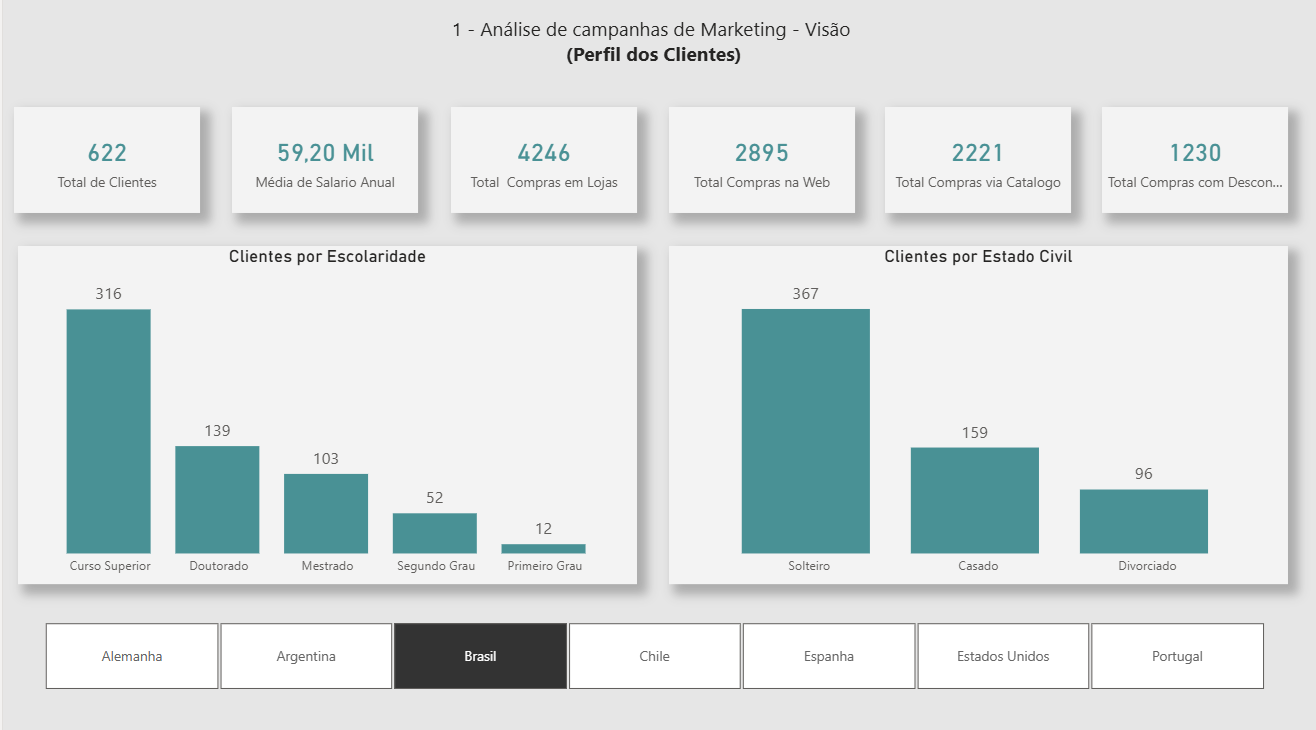

The page's visual inventory and layout, read from the dashboard file:
{"tool":"powerbi","page":{"name":"Visão do cliente","canvas":[1280,720],"ordinal":0},"visuals":[{"type":"card","fields":{"Values":["CountNonNull(Fmarketing.ID)"]},"box":[10.3,109.7,181.1,103.5],"z":0},{"type":"card","fields":{"Values":["Avg(Fmarketing.Salario Anual)"]},"box":[223,109.7,181,103],"z":1000},{"type":"card","fields":{"Values":["Sum(Fmarketing.Numero de Compras na Loja)"]},"box":[435.5,109.7,181,103],"z":2000},{"type":"card","fields":{"Values":["Sum(Fmarketing.Numero de Compras na Web)"]},"box":[648,109.7,181,103],"z":3000},{"type":"card","fields":{"Values":["Sum(Fmarketing.Numero de Compras com Desconto)"]},"box":[1068.9,109.7,181.1,103.5],"z":4000},{"type":"card","fields":{"Values":["Sum(Fmarketing.Numero de Compras via Catalogo)"]},"box":[857.8,109.7,181.1,103.5],"z":5000},{"type":"textbox","box":[312.5,15.5,641.6,60],"z":6000},{"type":"clusteredColumnChart","title":"Clientes por Escolaridade","fields":{"Y":["CountNonNull(Fmarketing.ID)"],"Category":["Fmarketing.Escolaridade"]},"box":[14.5,245.2,602.2,329.1],"z":7000},{"type":"clusteredColumnChart","title":"Clientes por Estado Civil","fields":{"Y":["CountNonNull(Fmarketing.ID)"],"Category":["Fmarketing.Estado Civil"]},"box":[647.8,245.2,602,329.1],"z":8000},{"type":"slicer","fields":{"Values":["Fmarketing.Pais"]},"box":[15.5,605.3,1234.5,77.6],"z":9000}]}

Visuals, with their boxes in screenshot pixels (x1, y1, x2, y2), scaled from the page's 1280x720 canvas onto the 1316x730 screenshot:
card - CountNonNull(Fmarketing.ID): <region>11, 111, 197, 216</region>
card - Avg(Fmarketing.Salario Anual): <region>229, 111, 415, 216</region>
card - Sum(Fmarketing.Numero de Compras na Loja): <region>448, 111, 634, 216</region>
card - Sum(Fmarketing.Numero de Compras na Web): <region>666, 111, 852, 216</region>
card - Sum(Fmarketing.Numero de Compras com Desconto): <region>1099, 111, 1285, 216</region>
card - Sum(Fmarketing.Numero de Compras via Catalogo): <region>882, 111, 1068, 216</region>
textbox: <region>321, 16, 981, 77</region>
"Clientes por Escolaridade" clusteredColumnChart: <region>15, 249, 634, 582</region>
"Clientes por Estado Civil" clusteredColumnChart: <region>666, 249, 1285, 582</region>
slicer - Fmarketing.Pais: <region>16, 614, 1285, 692</region>
